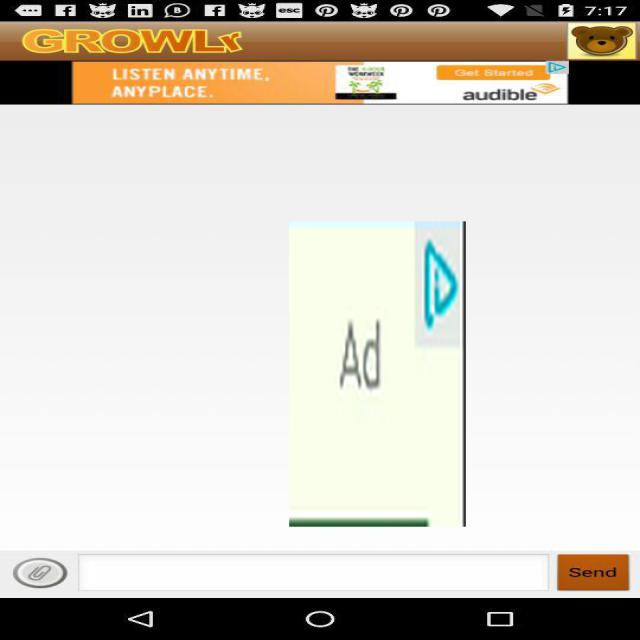sneaking: (289, 221, 466, 527)
